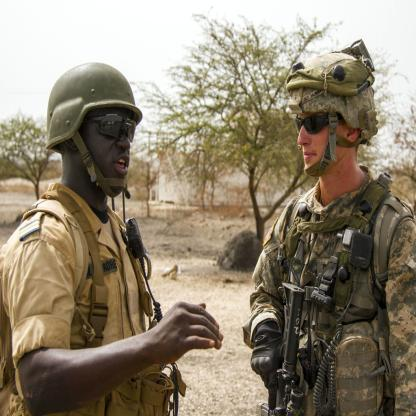Helmet: (45, 65, 138, 206), (284, 49, 378, 179)
